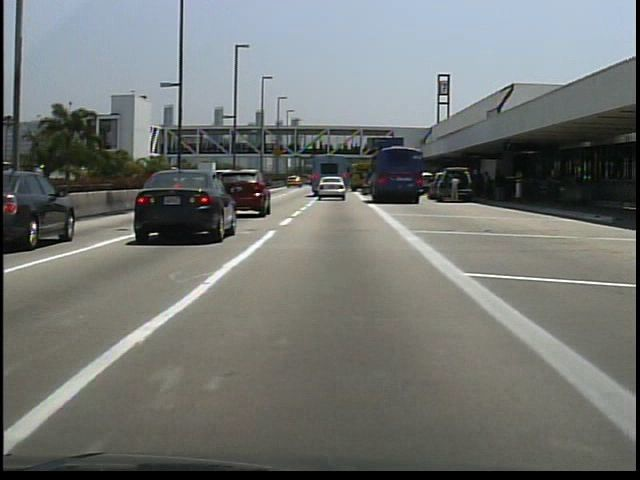person: (491, 167, 507, 206), (448, 175, 462, 206)
